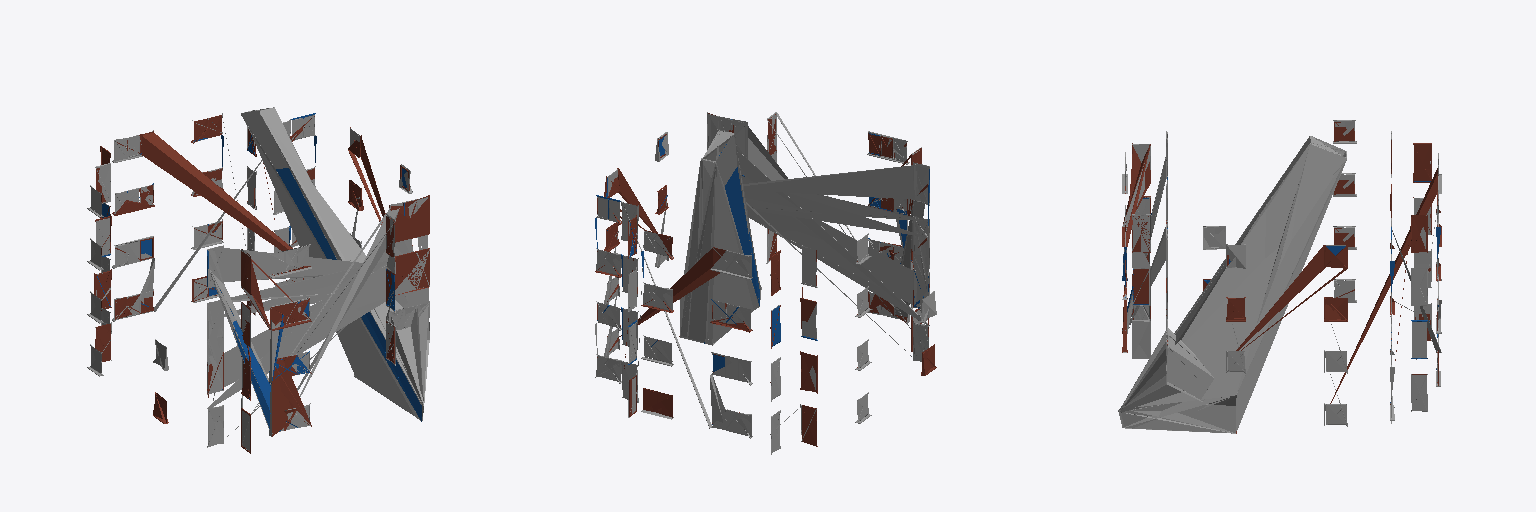
The model's file is building_04.obj.
3 views of the same model, side by side, from view 1: azimuth 30°, elevation 25°; view 2: azimuth 150°, elevation 25°; view 3: azimuth 270°, elevation 25° (orthographic).
Visible parts, largest first — view 1: gutters_003; view 2: gutters_003; view 3: gutters_003.
Part boxes in pixels (x1,y1,x2,y2): gutters_003: (87, 107, 429, 453); gutters_003: (595, 112, 936, 454); gutters_003: (1118, 120, 1441, 433).
Bounding box in the file's own units: 6.08 × 5.77 × 6.54.